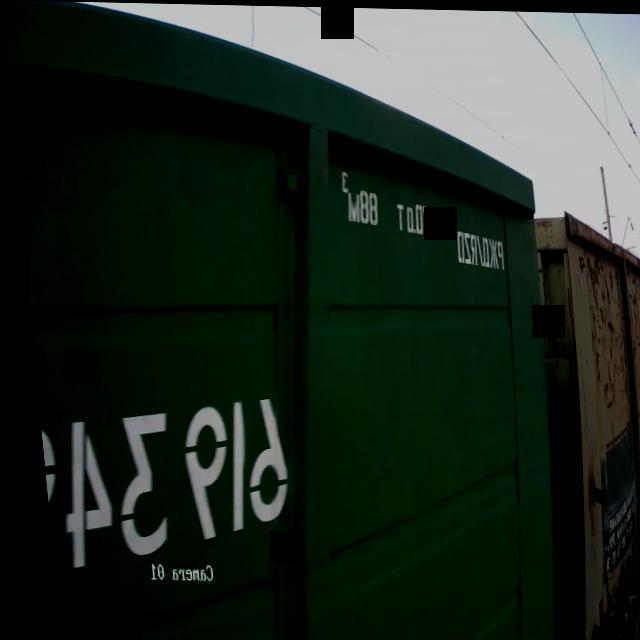gondola: (0, 0, 569, 640), (523, 199, 640, 640)
